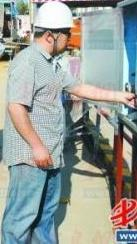boots: (0, 163, 11, 178), (0, 173, 8, 183)
hard-hat: (33, 0, 76, 28)
